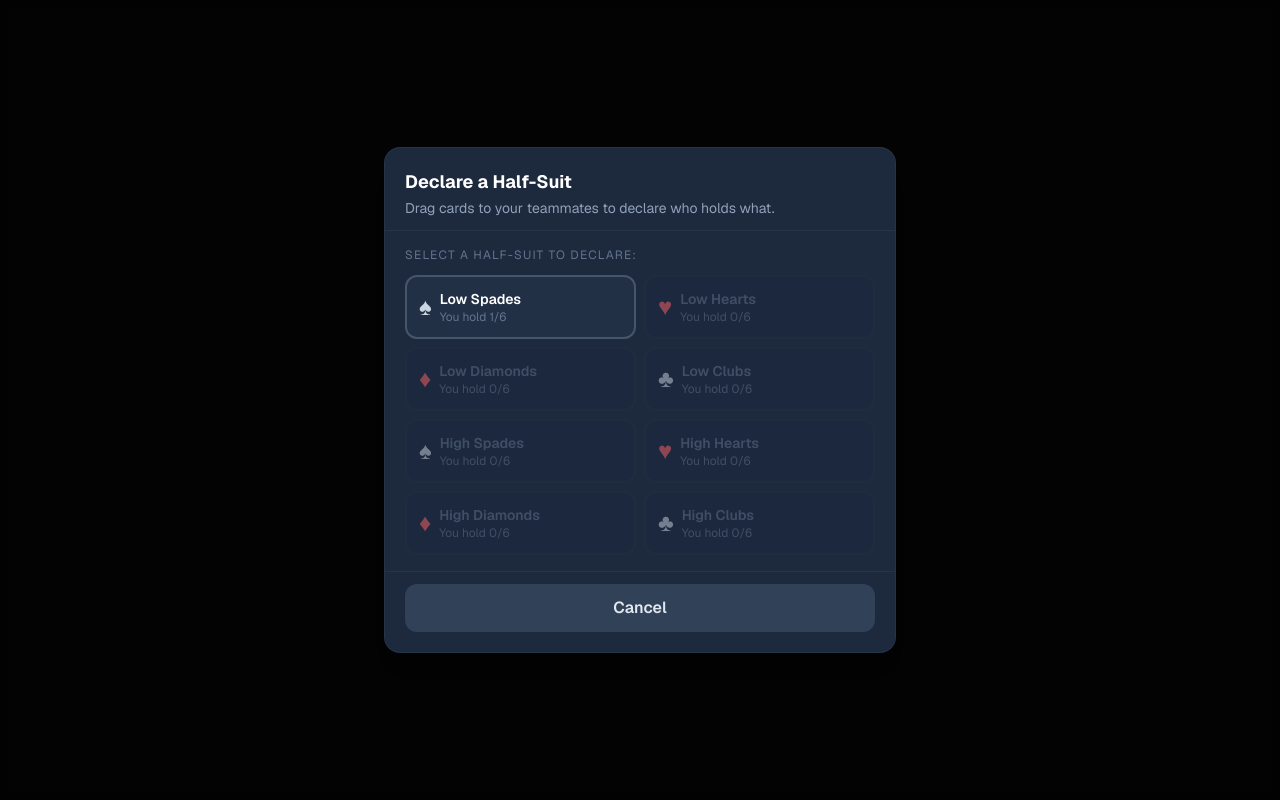
Test case: DeclareModal — tap-to-assign › tapping a card in the unassigned pool shows hint text
This screenshot has width=1280, height=800.
Click the button "♠ Low Spades You hold 1/6". click: (520, 307)
box: [405,275,636,339]
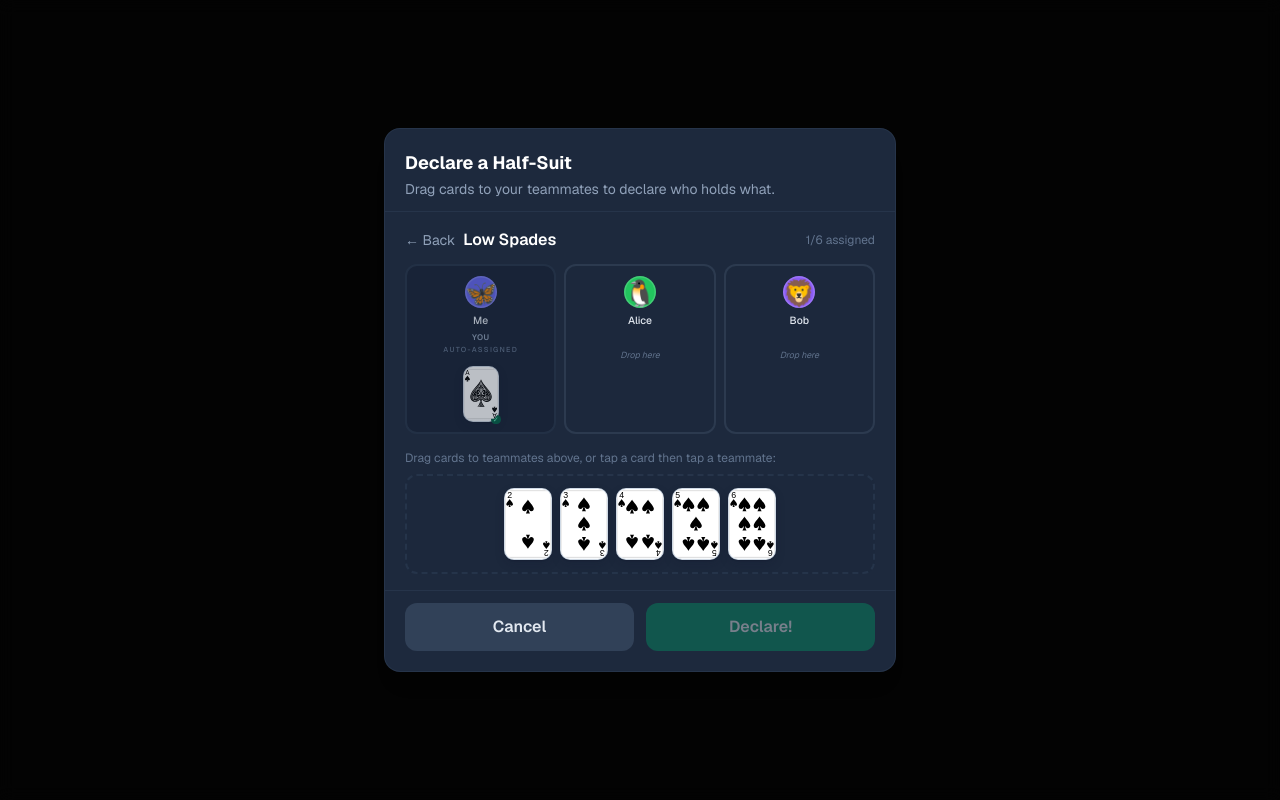
Click the button with test id "draggable-card" showing "2 ♠ ♠ 2 ♠". click: (528, 524)
box: [504,488,552,560]
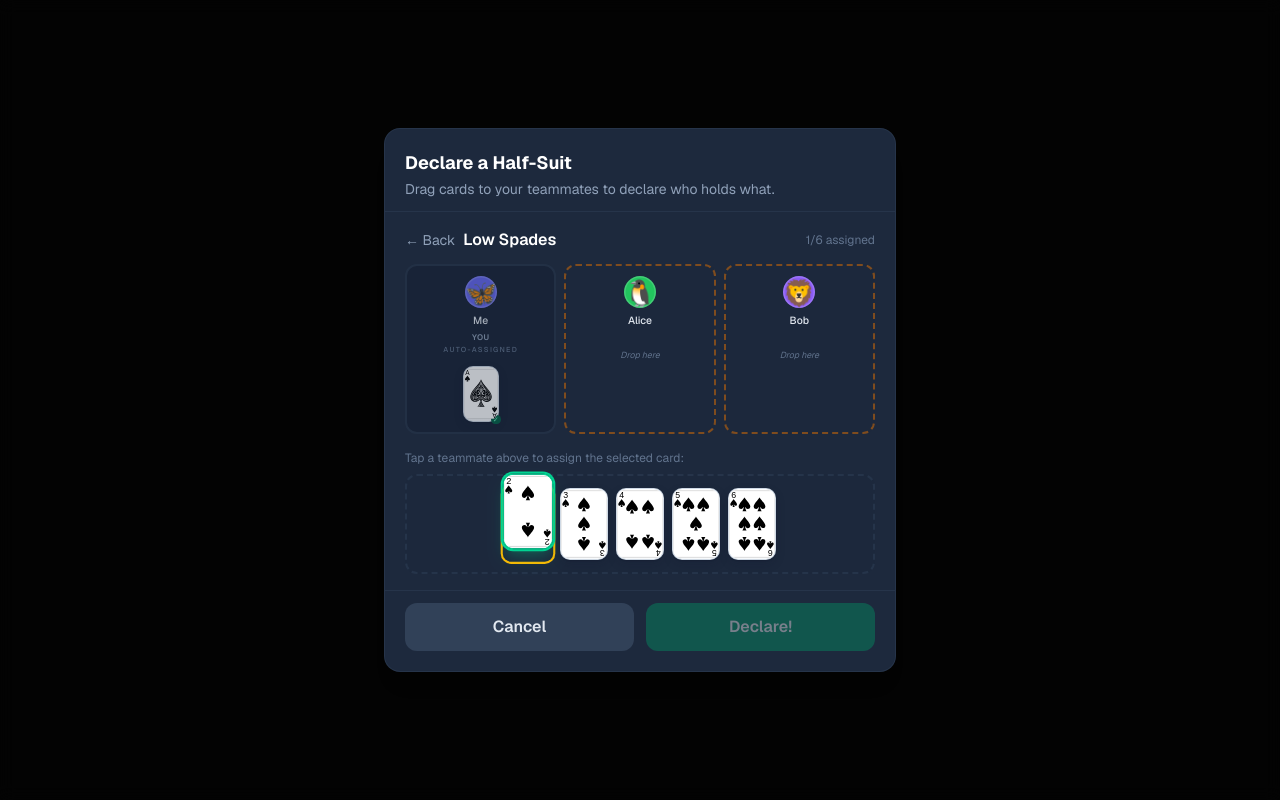
Expected: the text "Tap a teammate above to assign the selected card:" is shown, [405,450,684,466]
